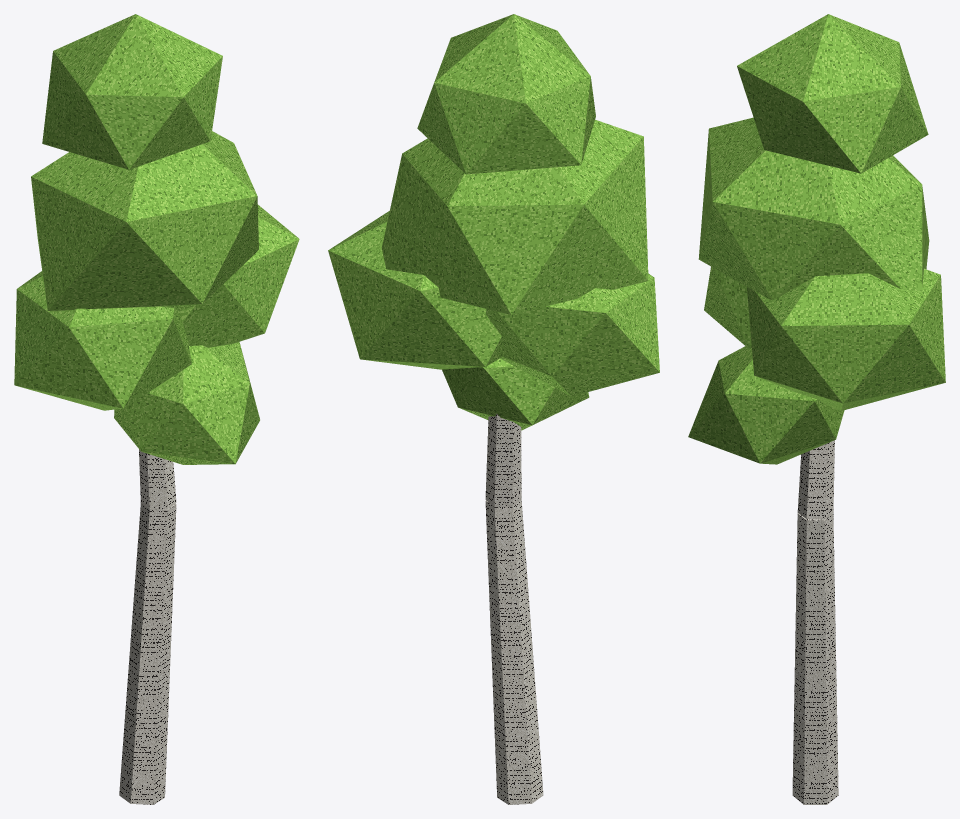
The model's file is tree_birch.glb.
3 views of the same model, side by side, from view 1: azimuth 30°, elevation 25°; view 2: azimuth 150°, elevation 25°; view 3: azimuth 270°, elevation 25° (orthographic).
Visible parts, largest first — view 1: Body.003; view 2: Body.003; view 3: Body.003.
Part boxes in pixels (box(x1,y1,x2,y2)): Body.003: box(14, 14, 299, 804); Body.003: box(328, 14, 659, 804); Body.003: box(688, 14, 945, 804).
Bounding box in the file's own units: 2.54 × 6.74 × 2.01.
Materials: 2 (2 with a texture image).
